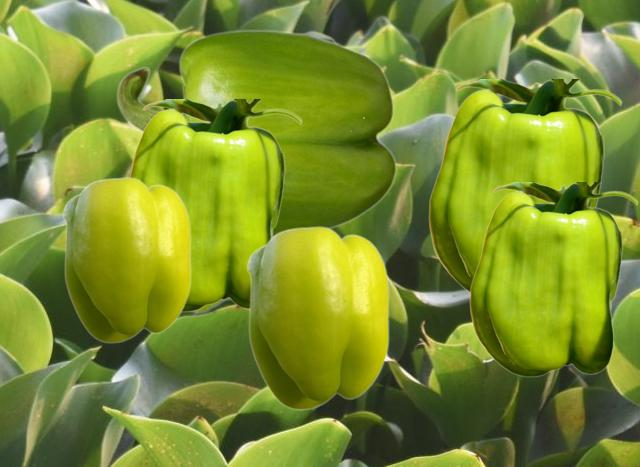bell_pepper: (116, 29, 396, 233), (428, 79, 621, 292), (129, 99, 301, 311), (469, 182, 637, 376), (246, 225, 388, 409), (62, 176, 190, 342)
